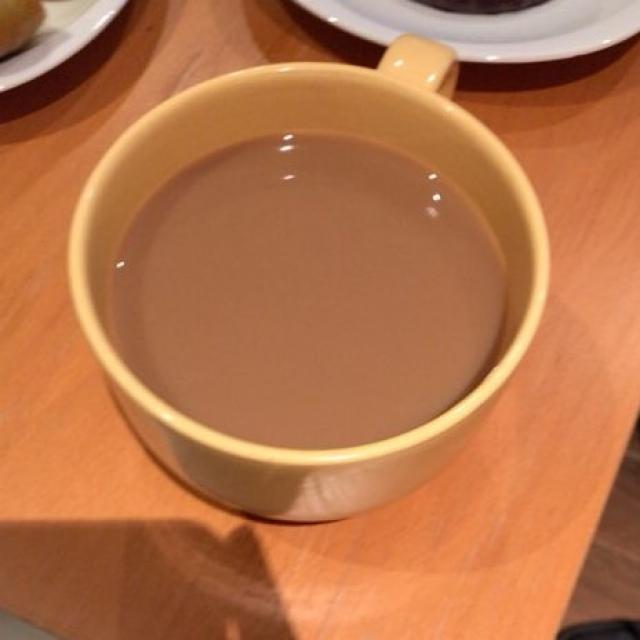coffee-with-caffeine: (101, 125, 500, 443)
